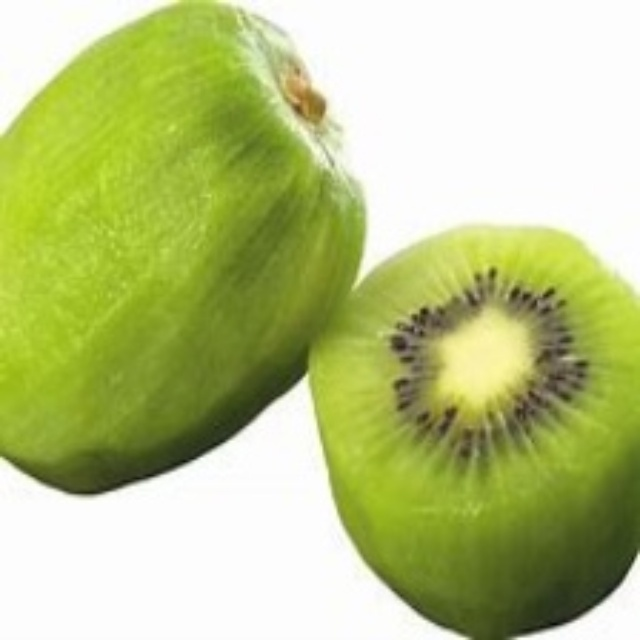kiwi: (5, 5, 367, 498), (288, 217, 637, 638)
